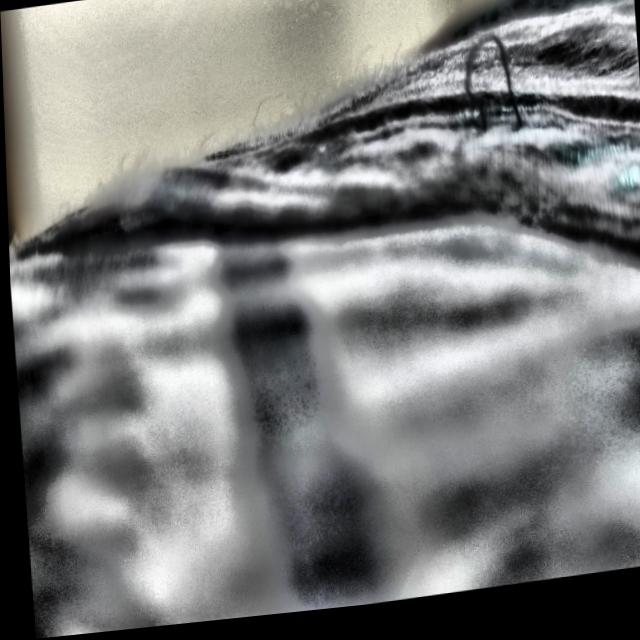Stitch: (417, 0, 564, 188)
